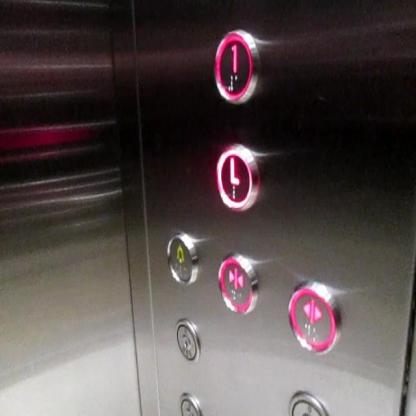1: (212, 27, 258, 103)
L: (214, 141, 258, 210)
alarm: (166, 232, 197, 285)
close: (216, 252, 257, 315)
keyhole: (173, 316, 199, 362)
open: (286, 280, 340, 354)
